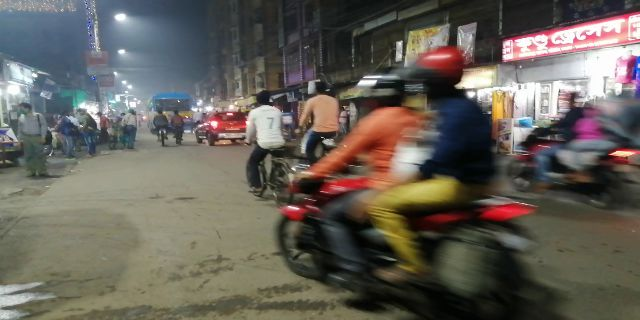Car: (194, 109, 242, 146)
Cycle: (242, 92, 292, 198), (152, 109, 169, 147), (170, 108, 187, 143)
Motorbike: (277, 75, 537, 307)
